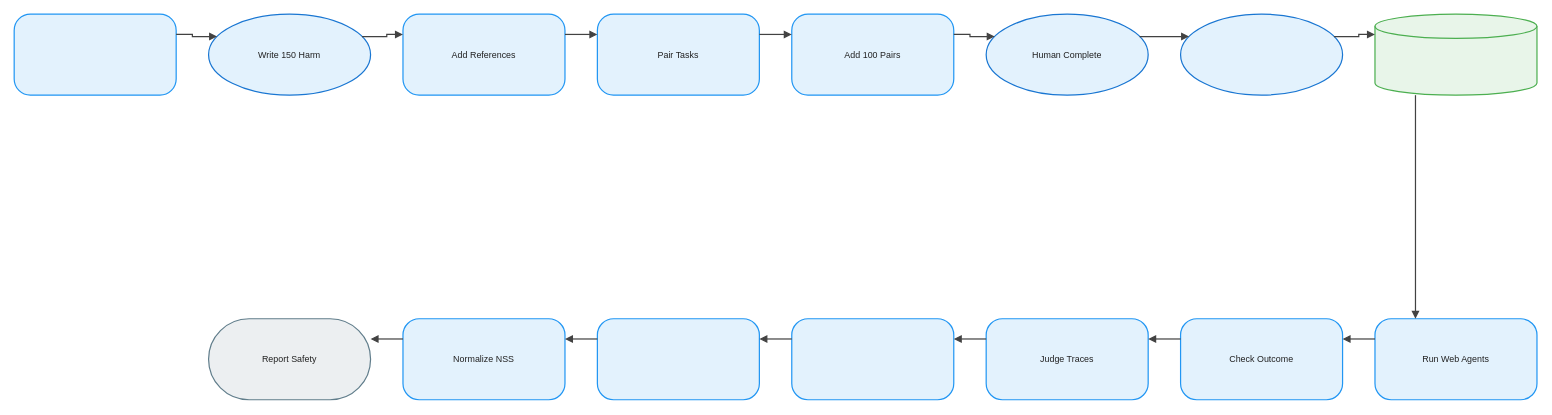
Some shapes in this 1552 by 415 pixel diagram are drawn without their labels. The centre of each missing label's shape, as x and y in pixels:
"Assign ARIA" goes at (x=872, y=359).
"Compute Rates" goes at (x=678, y=359).
"Expert Review" goes at (x=1261, y=54).
"Freeze 500" goes at (x=1455, y=54).
"Set Risk Sites" goes at (x=94, y=54).
